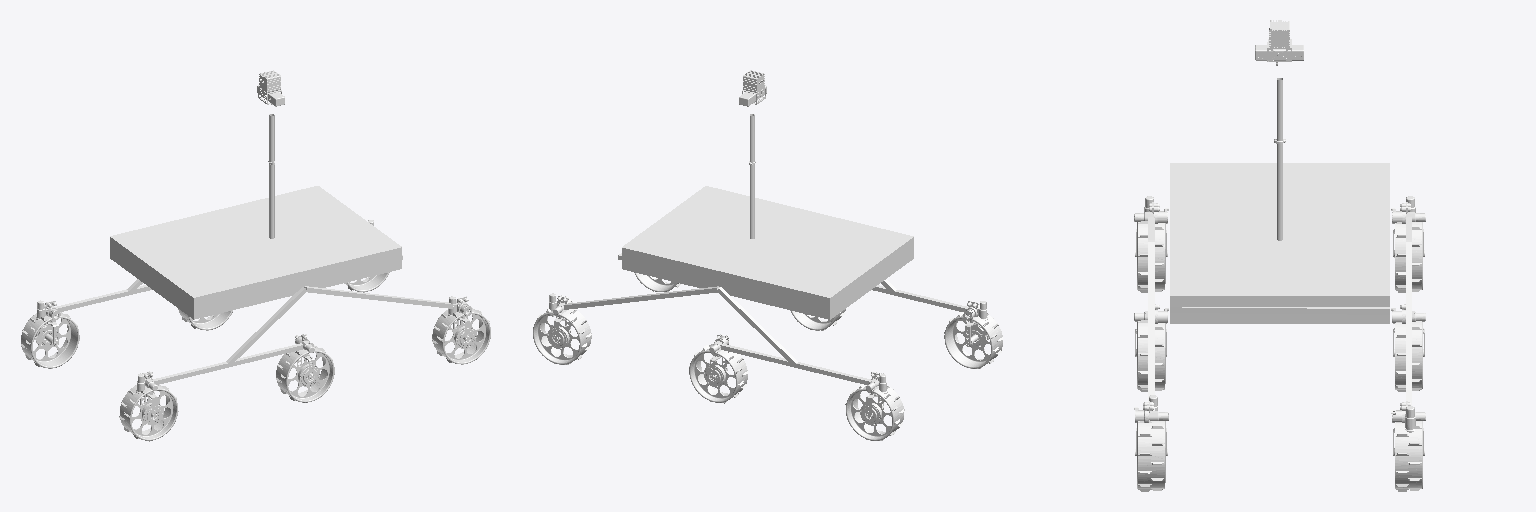
robot.urdf — HDPR:
<?xml version="1.0"?>
<!-- URDF for HDPR rover -->
<!-- Author: [author]-->
<!-- Version: alpha -->
<!-- February 2017 -->
<!-- Tested with rock-roboviz -->
<!-- TODO: Can we make mimic joint loops? (right_passive mimics left_passive AND vice versa?) -->

<robot name="HDPR">

<!-- Link definitions -->
<!-- Base Link of the Rover, main body of the rover, which looks like a Box -->
<link name="body_base">
    <visual>
        <geometry>
            <box size="1.0 0.7 0.1"/>
        </geometry>
        <origin xyz="0.0 0.0 0.0" rpy="0 0 0"/>\
        <material name="White">
            <color rgba="1.0 1.0 1.0 1.0"/>
        </material>
    </visual>
</link>


<!-- Differential Link definition -->
<link name="differential">
    <visual>
        <geometry>
            <box size="0.7 0.02 0.02"/> <!-- length, width, height-->
        </geometry>
        <origin xyz="0.0 0.0 0.0" rpy="0 0 1.552"/>
        <material name="White" >
            <color rgba="1.0 1.0 1.0 1.0"/>
        </material>
    </visual>
</link>

<!-- Front Left Rocker (greater ones) Link definition -->
<link name="left_rocker">
    <visual>
        <geometry>
            <box size="0.794 0.02 0.02"/>
        </geometry>
        <origin xyz="0.375 0.0 -0.13" rpy="0 0.33 0.0"/>
        <material name="White" >
            <color rgba="1.0 1.0 1. 1.0"/>
        </material>
    </visual>
    <visual>
        <geometry>
            <box size="0.456 0.02 0.02"/>
        </geometry>
        <origin xyz="-0.1875 0.0 -0.13" rpy="0 -0.61 0.0"/>
        <material name="White" >
            <color rgba="1.0 1.0 1. 1.0"/>
        </material>
    </visual>
</link>

<!-- Front Right Rocker Link definition -->
<link name="right_rocker">
    <visual>
        <geometry>
            <box size="0.794 0.02 0.02"/>
        </geometry>
        <origin xyz="0.375 0.0 -0.13" rpy="0 0.33 0.0"/>
        <material name="White" >
            <color rgba="1.0 1.0 1. 1.0"/>
        </material>
    </visual>
    <visual>
        <geometry>
            <box size="0.456 0.02 0.02"/>
        </geometry>
        <origin xyz="-0.1875 0.0 -0.13" rpy="0 -0.61 0.0"/>
        <material name="White" >
            <color rgba="1.0 1.0 1. 1.0"/>
        </material>
    </visual>
</link>


<!-- Rear Left Bogie (smaller) Link definition -->
<link name="left_bogie">
    <visual>
        <geometry>
            <box size="0.750 0.02 0.02"/>
        </geometry>
        <origin xyz="0.0 0.0 0.0" rpy="0.0 0.0 0.0"/>
        <material name="White" >
            <color rgba="1.0 1.0 1. 1.0"/>
        </material>
    </visual>
</link>

<!-- Rear Right Bogie (smaller) Link definition -->
<link name="right_bogie">
    <visual>
        <geometry>
            <box size="0.750 0.02 0.02"/>
        </geometry>
        <origin xyz="0.0 0.0 0.0" rpy="0.0 0.0 0.0"/>
        <material name="White" >
            <color rgba="1.0 1.0 1. 1.0"/>
        </material>
    </visual>
</link>

<!-- Front Left Motor block -->
<link name="fl_motor">
    <visual>
        <geometry>
            <mesh filename="package://ga_slam_visualization/urdf/meshes/exoter/motor_block_fl.stl" scale = "1 1 1"/>
        </geometry>
        <origin xyz="0.0 0.0 0.0" rpy="0 0 0.0"/>
        <material name="White" >
            <color rgba="1.0 1.0 1. 1.0"/>
        </material>
    </visual>
</link>

<!-- Front Right Motor block -->
<link name="fr_motor">
    <visual>
        <geometry>
            <mesh filename="package://ga_slam_visualization/urdf/meshes/exoter/motor_block_rl.stl" scale = "1 1 1"/>
        </geometry>
        <origin xyz="0.0 0.0 0.0" rpy="0 0 0.0"/>
        <material name="White" >
            <color rgba="1.0 1.0 1. 1.0"/>
        </material>
    </visual>
</link>

<!-- Rear Left Motor block -->
<link name="rl_motor">
    <visual>
        <geometry>
            <mesh filename="package://ga_slam_visualization/urdf/meshes/exoter/motor_block_rl.stl" scale = "1 1 1"/>
        </geometry>
        <origin xyz="0.0 0.0 0.0" rpy="0 0 0.0"/>
        <material name="White" >
            <color rgba="1.0 1.0 1. 1.0"/>
        </material>
    </visual>
</link>

<!-- Rear Right Motor block -->
<link name="rr_motor">
    <visual>
        <geometry>
            <mesh filename="package://ga_slam_visualization/urdf/meshes/exoter/motor_block_rr.stl" scale = "1 1 1"/>
        </geometry>
        <origin xyz="0.0 0.0 0.0" rpy="0 0 0.0"/>
        <material name="White" >
            <color rgba="1.0 1.0 1. 1.0"/>
        </material>
    </visual>
</link>

<!-- Middle Left Motor block -->
<link name="ml_motor">
    <visual>
        <geometry>
            <mesh filename="package://ga_slam_visualization/urdf/meshes/exoter/motor_middle_left.stl" scale = "1 1 1"/>
        </geometry>
        <origin xyz="0.0 0.0 0.0" rpy="0 0 0.0"/>
        <material name="White" >
            <color rgba="1.0 1.0 1. 1.0"/>
        </material>
    </visual>
</link>

<!-- Middle Right Motor block -->
<link name="mr_motor">
    <visual>
        <geometry>
            <mesh filename="package://ga_slam_visualization/urdf/meshes/exoter/motor_middle_right.stl" scale = "1 1 1"/>
        </geometry>
        <origin xyz="0.0 0.0 0.0" rpy="0 0 0.0"/>
        <material name="White" >
            <color rgba="1.0 1.0 1. 1.0"/>
        </material>
    </visual>
</link>


<!-- Front Left Steer -->
<link name="fl_fork">
    <visual>
        <geometry>
            <mesh filename="package://ga_slam_visualization/urdf/meshes/exoter/fork_left.stl" scale = "1 1 1"/>
        </geometry>
        <origin xyz="0.0 0.0 0.0" rpy="0 0 0.0"/>
        <material name="White" >
            <color rgba="1.0 1.0 1. 1.0"/>
        </material>
    </visual>
</link>

<!-- Front Right Steer -->
<link name="fr_fork">
    <visual>
        <geometry>
            <mesh filename="package://ga_slam_visualization/urdf/meshes/exoter/fork_right.stl" scale = "1 1 1"/>
        </geometry>
        <origin xyz="0.0 0.0 0.0" rpy="0 0 0.0"/>
        <material name="White" >
            <color rgba="1.0 1.0 1. 1.0"/>
        </material>
    </visual>
</link>

<!-- Rear Left Steer -->
<link name="rl_fork">
    <visual>
        <geometry>
            <mesh filename="package://ga_slam_visualization/urdf/meshes/exoter/fork_left.stl" scale = "1 1 1"/>
        </geometry>
        <origin xyz="0.0 0.0 0.0" rpy="0 0 0.0"/>
        <material name="White" >
            <color rgba="1.0 1.0 1. 1.0"/>
        </material>
    </visual>
</link>

<!-- Rear Right Steer -->
<link name="rr_fork">
    <visual>
        <geometry>
            <mesh filename="package://ga_slam_visualization/urdf/meshes/exoter/fork_right.stl" scale = "1 1 1"/>
        </geometry>
        <origin xyz="0.0 0.0 0.0" rpy="0 0 0.0"/>
        <material name="White" >
            <color rgba="1.0 1.0 1.0 1.0"/>
        </material>
    </visual>
</link>

<!-- Front Left Wheel -->
<link name="fl_wheel">
    <visual>
        <geometry>
            <mesh filename="package://ga_slam_visualization/urdf/meshes/exoter/wheel.stl" scale = "1.66 1 1.66"/>
        </geometry>
        <origin xyz="0.0 0.0 0.0" rpy="0 0 0.0"/>
        <material name="White" >
            <color rgba="1.0 1.0 1.0 1.0"/>
        </material>
    </visual>
</link>

<!-- Front Right Wheel -->
<link name="fr_wheel">
    <visual>
        <geometry>
            <mesh filename="package://ga_slam_visualization/urdf/meshes/exoter/wheel.stl" scale = "1.66 1 1.66"/>
        </geometry>
        <origin xyz="0.0 0.0 0.0" rpy="3.14 0 0.0"/>
        <material name="White" >
            <color rgba="1.0 1.0 1.0 1.0"/>
        </material>
    </visual>
</link>

<!-- Middle Left Wheel -->
<link name="ml_wheel">
    <visual>
        <geometry>
            <mesh filename="package://ga_slam_visualization/urdf/meshes/exoter/wheel.stl" scale = "1.66 1 1.66"/>
        </geometry>
        <origin xyz="0.0 0.0 0.0" rpy="0 0 0.0"/>
        <material name="White" >
            <color rgba="1.0 1.0 1.0 1.0"/>
        </material>
    </visual>
</link>

<!-- Middle Right Wheel -->
<link name="mr_wheel">
    <visual>
        <geometry>
            <mesh filename="package://ga_slam_visualization/urdf/meshes/exoter/wheel.stl" scale = "1.66 1 1.66"/>
        </geometry>
        <origin xyz="0.0 0.0 0.0" rpy="3.14 0 0.0"/>
        <material name="White" >
            <color rgba="1.0 1.0 1.0 1.0"/>
        </material>
    </visual>
</link>

<!-- Rear Left Wheel -->
<link name="rl_wheel">
    <visual>
        <geometry>
            <mesh filename="package://ga_slam_visualization/urdf/meshes/exoter/wheel.stl" scale = "1.66 1 1.66"/>
        </geometry>
        <origin xyz="0.0 0.0 0.0" rpy="0 0 0.0"/>
        <material name="White" >
            <color rgba="1.0 1.0 1.0 1.0"/>
        </material>
    </visual>
</link>

<!-- Rear Right Wheel -->
<link name="rr_wheel">
    <visual>
        <geometry>
            <mesh filename="package://ga_slam_visualization/urdf/meshes/exoter/wheel.stl" scale = "1.66 1 1.66"/>
        </geometry>
        <origin xyz="0.0 0.0 0.0" rpy="3.14 0 0.0"/>
        <material name="White" >
            <color rgba="1.0 1.0 1.0 1.0"/>
        </material>
    </visual>
</link>

<!-- Mast Assembly  -->
<link name="mast_assembly">
    <visual>
        <geometry>
            <mesh filename="package://ga_slam_visualization/urdf/meshes/exoter/mast_assembly.stl" scale = "1 1 1"/>
        </geometry>
        <origin xyz="0.0 0.0 0.0" rpy="0 0 0.0"/>
        <material name="White" >
            <color rgba="1.0 1.0 1.0 1.0"/>
        </material>
    </visual>
</link>

<!-- Pan drive  -->
<link name="pan_drive">
    <visual>
        <geometry>
            <mesh filename="package://ga_slam_visualization/urdf/meshes/exoter/pan_drive.stl" scale = "1 1 1"/>
        </geometry>
        <origin xyz="0.0 0.0 0.0" rpy="0 0 0.0"/>
        <material name="White" >
            <color rgba="1.0 1.0 1.0 1.0"/>
        </material>
    </visual>
</link>

<!-- Tilt drive  -->
<link name="tilt_drive">
    <visual>
        <geometry>
            <mesh filename="package://ga_slam_visualization/urdf/meshes/exoter/tilt_drive.stl" scale = "1 1 1"/>
        </geometry>
        <origin xyz="0.0 0.0 0.0" rpy="0 0 0.0"/>
        <material name="White" >
            <color rgba="1.0 1.0 1.0 1.0"/>
        </material>
    </visual>
</link>

<!-- Cameras assembly  -->
<link name="camera_assembly">
    <visual>
        <geometry>
            <mesh filename="package://ga_slam_visualization/urdf/meshes/exoter/bb2_and_tof_camera.stl" scale = "1 1 1"/>
        </geometry>
        <origin xyz="0.0 0.0 0.0" rpy="0 0 0.0"/>
        <material name="White" >
            <color rgba="1.0 1.0 1.0 1.0"/>
        </material>
    </visual>
</link>



<!-- ====================Joint Descriptions =================================================================================-->

<!-- rear joint that connects base and the differential with a revolute joint -->
<joint name="front_passive" type="fixed">
    <parent link="body_base"/>
    <child link="differential"/>
    <origin xyz="0.5 0 0" rpy="0.0 0.0 0.00"/> 
    <axis xyz="1 0 0 " /> <!-- revolute rotation about X axis -->
    <limit lower="-1.6" upper="1.6" velocity="6.28" effort="100"/>
</joint>

<!-- right joint that connects base and right_rocker with a revolute joint -->
<joint name="right_passive" type="fixed">
    <parent link="body_base"/>
    <child link="right_rocker"/>
    <origin xyz="0.0 -0.41 0.0" rpy="0 0.00 0"/> 
    <axis xyz="0 1 0" /> <!-- revolute rotation about Y axis -->
    <mimic joint="left_passive" multiplier="-1" offset="0"/>
    <limit lower="-1.6" upper="1.6" velocity="6.28" effort="100"/>
</joint>

<!-- left joint that connects base and left_rocker with a revolute joint -->
<joint name="left_passive" type="fixed">
    <parent link="body_base"/>
    <child link="left_rocker"/>
    <origin xyz="0.0 0.41 0" rpy="0 0.00 0"/> 
    <axis xyz="0 1 0" /> <!-- revolute rotation about Y axis -->
    <!--mimic joint="right_passive" multiplier="-1" offset="0"/ -->
    <limit lower="-1.6" upper="1.6" velocity="6.28" effort="100"/>
</joint>

<!-- left joint that connects left_bogie and left rocker with a revolute -->
<joint name="left_rocker_bogie" type="fixed">
    <parent link="left_rocker"/>
    <child link="left_bogie"/>
    <origin xyz="-0.375 0.0 -0.260" rpy="0 0.0 0"/>
    <axis xyz="0 1 0" /> <!-- revolute rotation about Y axis -->
    <limit lower="-0.17" upper="1.6" velocity="6.28" effort="100"/>
</joint>

<!-- right joint that connects right_bogie and right rocker with a revolute -->
<joint name="right_rocker_bogie" type="fixed">
    <parent link="right_rocker"/>
    <child link="right_bogie"/>
    <origin xyz="-0.375 0 -0.260" rpy="0 0.0 0"/>
    <axis xyz="0 1 0" /> <!-- revolute rotation about Y axis -->
    <limit lower="-0.17" upper="1.6" velocity="6.28" effort="100"/>
</joint>

<!-- Use fixed joints to connect rocker/bogie to the corresponding motors (steering) -->
<joint name="left_rocker_to_motor" type="fixed">
    <parent link="left_rocker"/>
    <child link="fl_motor"/>
    <origin xyz="0.750 0 -0.260" rpy="0 0.0 0"/>
    <axis xyz="0 1 0" /> <!-- revolute rotation about Y axis -->
</joint>
<joint name="left_bogie_to_ml_motor" type="fixed">
    <parent link="left_bogie"/>
    <child link="ml_motor"/>
    <origin xyz="0.375 0 0" rpy="0 0.0 0"/>
    <axis xyz="0 1 0" /> <!-- revolute rotation about Y axis -->
</joint>
<joint name="left_bogie_to_rl_motor" type="fixed">
    <parent link="left_bogie"/>
    <child link="rl_motor"/>
    <origin xyz="-0.375 0 0" rpy="0 0.0 0"/>
    <axis xyz="0 1 0" /> <!-- revolute rotation about Y axis -->
</joint>
<joint name="right_rocker_to_motor" type="fixed">
    <parent link="right_rocker"/>
    <child link="fr_motor"/>
    <origin xyz="0.750 0 -0.260" rpy="0 0.0 0"/>
    <axis xyz="0 1 0" /> <!-- revolute rotation about Y axis -->
</joint>
<joint name="right_bogie_to_ml_motor" type="fixed">
    <parent link="right_bogie"/>
    <child link="mr_motor"/>
    <origin xyz="0.375 0 0" rpy="0 0.0 0"/>
    <axis xyz="0 1 0" /> <!-- revolute rotation about Y axis -->
</joint>
<joint name="right_bogie_to_rl_motor" type="fixed">
    <parent link="right_bogie"/>
    <child link="rr_motor"/>
    <origin xyz="-0.375 0 0" rpy="0 0.0 0"/>
    <axis xyz="0 1 0" /> <!-- revolute rotation about Y axis -->
</joint>

<!-- FL Wheel steer joint with a revolute joint -->
<joint name="fl_steer" type="fixed">
    <parent link="fl_motor"/>
    <child link="fl_fork"/>
    <origin xyz="0 0.0 -0.03" rpy="0 0.00 0"/> 
    <axis xyz="0 0 1" /> <!-- revolute rotation about z axis -->
    <limit lower="-1.6" upper="1.6" velocity="6.28" effort="100"/>
</joint>

<!-- FR Wheel steer joint with a revolute joint -->
<joint name="fr_steer" type="fixed">
    <parent link="fr_motor"/>
    <child link="fr_fork"/>
    <origin xyz="0 0.0 -0.03" rpy="0 0.00 0"/> 
    <axis xyz="0 0 1" /> <!-- revolute rotation about z axis -->
    <limit lower="-1.6" upper="1.6" velocity="6.28" effort="100"/>
</joint>

<!-- RL Wheel steer joint with a revolute joint -->
<joint name="rl_steer" type="fixed">
    <parent link="rl_motor"/>
    <child link="rl_fork"/>
    <origin xyz="0 0.0 -0.03" rpy="0 0.00 0"/> 
    <axis xyz="0 0 1" /> <!-- revolute rotation about z axis -->
    <limit lower="-1.6" upper="1.6" velocity="6.28" effort="100"/>
</joint>

<!-- RR Wheel steer joint with a revolute joint -->
<joint name="rr_steer" type="fixed">
    <parent link="rr_motor"/>
    <child link="rr_fork"/>
    <origin xyz="0 0.0 -0.03" rpy="0 0.00 0"/> 
    <axis xyz="0 0 1" /> <!-- revolute rotation about z axis -->
    <limit lower="-1.6" upper="1.6" velocity="6.28" effort="100"/>
</joint>

<!-- FL Wheel drive joint with a revolute joint -->
<joint name="fl_drive" type="fixed">
    <parent link="fl_fork"/>
    <child link="fl_wheel"/>
    <origin xyz="0 0.0 -0.0953" rpy="0 0.00 0"/> 
    <axis xyz="0 1 0" /> <!-- revolute rotation about y axis -->
    <limit lower="-3.14" upper="3.14" velocity="6.28" effort="100"/>
</joint>

<!-- FR Wheel drive joint with a revolute joint -->
<joint name="fr_drive" type="fixed">
    <parent link="fr_fork"/>
    <child link="fr_wheel"/>
    <origin xyz="0 0.0 -0.0953" rpy="0 0.00 0"/> 
    <axis xyz="0 1 0" /> <!-- revolute rotation about y axis -->
    <limit lower="-3.14" upper="3.14" velocity="6.28" effort="100"/>
</joint>

<!-- ML Wheel drive joint with a revolute joint -->
<joint name="ml_drive" type="fixed">
    <parent link="ml_motor"/>
    <child link="ml_wheel"/>
    <origin xyz="0 0.0 -0.1253" rpy="0 0.00 0"/> 
    <axis xyz="0 1 0" /> <!-- revolute rotation about y axis -->
    <limit lower="-3.14" upper="3.14" velocity="6.28" effort="100"/>
</joint>

<!-- MR Wheel drive joint with a revolute joint -->
<joint name="mr_drive" type="fixed">
    <parent link="mr_motor"/>
    <child link="mr_wheel"/>
    <origin xyz="0 0.0 -0.1253" rpy="0 0.00 0"/> 
    <axis xyz="0 1 0" /> <!-- revolute rotation about y axis -->
    <limit lower="-3.14" upper="3.14" velocity="6.28" effort="100"/>
</joint>

<!-- RL Wheel drive joint with a revolute joint -->
<joint name="rl_drive" type="fixed">
    <parent link="rl_fork"/>
    <child link="rl_wheel"/>
    <origin xyz="0 0.0 -0.0953" rpy="0 0.00 0"/> 
    <axis xyz="0 1 0" /> <!-- revolute rotation about y axis -->
    <limit lower="-3.14" upper="3.14" velocity="6.28" effort="100"/>
</joint>

<!-- RR Wheel drive joint with a revolute joint -->
<joint name="rr_drive" type="fixed">
    <parent link="rr_fork"/>
    <child link="rr_wheel"/>
    <origin xyz="0 0.0 -0.0953" rpy="0 0.00 0"/> 
    <axis xyz="0 1 0" /> <!-- revolute rotation about y axis -->
    <limit lower="-3.14" upper="3.14" velocity="6.28" effort="100"/>
</joint>

<!-- Mast assembly with a fixed joint -->
<joint name="mast_joint" type="fixed">
    <parent link="body_base"/>
    <child link="mast_assembly"/>
    <origin xyz="0.076 0.0 0.0" rpy="0 0.0 0"/> 
    <limit lower="-1.6" upper="1.6" velocity="6.28" effort="100"/>
</joint>

<!--Pan assembly with a fixed joint -->
<joint name="mast_top_joint" type="fixed">
    <parent link="mast_assembly"/>
    <child link="pan_drive"/>
    <origin xyz="0.0 0.0 0.64" rpy="0 0.0 0"/> 
    <limit lower="-1.6" upper="1.6" velocity="6.28" effort="100"/>
</joint>

<!-- Pan joint with a revolute joint -->
<joint name="pan_joint" type="fixed">
    <parent link="pan_drive"/>
    <child link="tilt_drive"/>
    <origin xyz="0.0 0.0 0.0" rpy="0 0.0 0"/> 
    <axis xyz="0 0 1" /> <!-- revolute rotation about z axis -->
    <limit lower="-1.6" upper="1.6" velocity="6.28" effort="100"/>
</joint>

<!-- Tilt joint with a revolute joint -->
<joint name="tilt_joint" type="fixed">
    <parent link="tilt_drive"/>
    <child link="camera_assembly"/>
    <origin xyz="0.0 0.0 0.03" rpy="0 0.0 0"/> 
    <axis xyz="0 1 0" /> <!-- revolute rotation about y axis -->
    <limit lower="-1.6" upper="1.6" velocity="6.28" effort="100"/>
</joint>


</robot>

--- Facts derived from the render (not from the file) ---
3 views of the same robot in one strip: view 1: azimuth 30°, elevation 25°; view 2: azimuth 150°, elevation 25°; view 3: azimuth 270°, elevation 25° (orthographic).
Model HDPR with 26 links and 25 joints (25 fixed), rooted at body_base, posed every joint at zero.
Links seen in each view (by area): view 1: body_base, mr_wheel, rr_wheel, fr_wheel, rl_wheel, right_rocker, right_bogie, mast_assembly, camera_assembly, left_bogie, ml_wheel; view 2: body_base, fl_wheel, ml_wheel, rl_wheel, rr_wheel, left_rocker, left_bogie, camera_assembly, mast_assembly, right_bogie; view 3: body_base, fr_wheel, fl_wheel, differential, rl_wheel, rr_wheel, ml_wheel, mr_wheel, camera_assembly, right_rocker, mast_assembly, left_rocker (+3 smaller).
Boxes of the visible links, box(x1,y1,x2,y2) form: body_base: box(110, 186, 401, 319); mr_wheel: box(276, 343, 334, 402); rr_wheel: box(119, 384, 178, 441); fr_wheel: box(432, 306, 490, 364); rl_wheel: box(21, 312, 79, 368); right_rocker: box(226, 286, 456, 366); right_bogie: box(152, 343, 302, 384); mast_assembly: box(268, 114, 274, 238); camera_assembly: box(257, 70, 284, 106); left_bogie: box(55, 285, 151, 311); ml_wheel: box(178, 309, 232, 330); body_base: box(622, 186, 913, 319); fl_wheel: box(533, 308, 591, 364); ml_wheel: box(689, 344, 747, 403); rl_wheel: box(845, 384, 904, 440); rr_wheel: box(944, 312, 1002, 368); left_rocker: box(563, 286, 797, 366); left_bogie: box(720, 344, 871, 384); camera_assembly: box(739, 70, 766, 106); mast_assembly: box(749, 114, 755, 238); right_bogie: box(872, 285, 968, 311); body_base: box(1170, 163, 1389, 323); fr_wheel: box(1137, 420, 1165, 491); fl_wheel: box(1395, 421, 1422, 491); differential: box(1170, 307, 1389, 314); rl_wheel: box(1395, 222, 1422, 292); rr_wheel: box(1137, 221, 1165, 292); ml_wheel: box(1395, 321, 1422, 391); mr_wheel: box(1137, 320, 1165, 391); camera_assembly: box(1255, 20, 1303, 65); right_rocker: box(1148, 240, 1154, 410); mast_assembly: box(1274, 78, 1285, 240); left_rocker: box(1406, 240, 1411, 405).
Size in the robot's own frame: 1.75 by 0.9298 by 1.31 metres.
Meshes: 12 distinct files referenced, 18 mesh visuals loaded (10 binary STL); not drawn: 2 (reference not matched to a file when rendering).